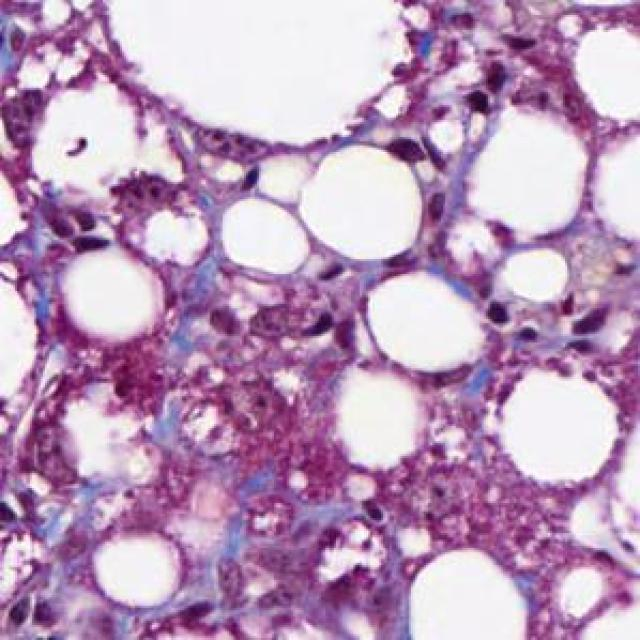inflammation: (28, 180, 116, 261)
